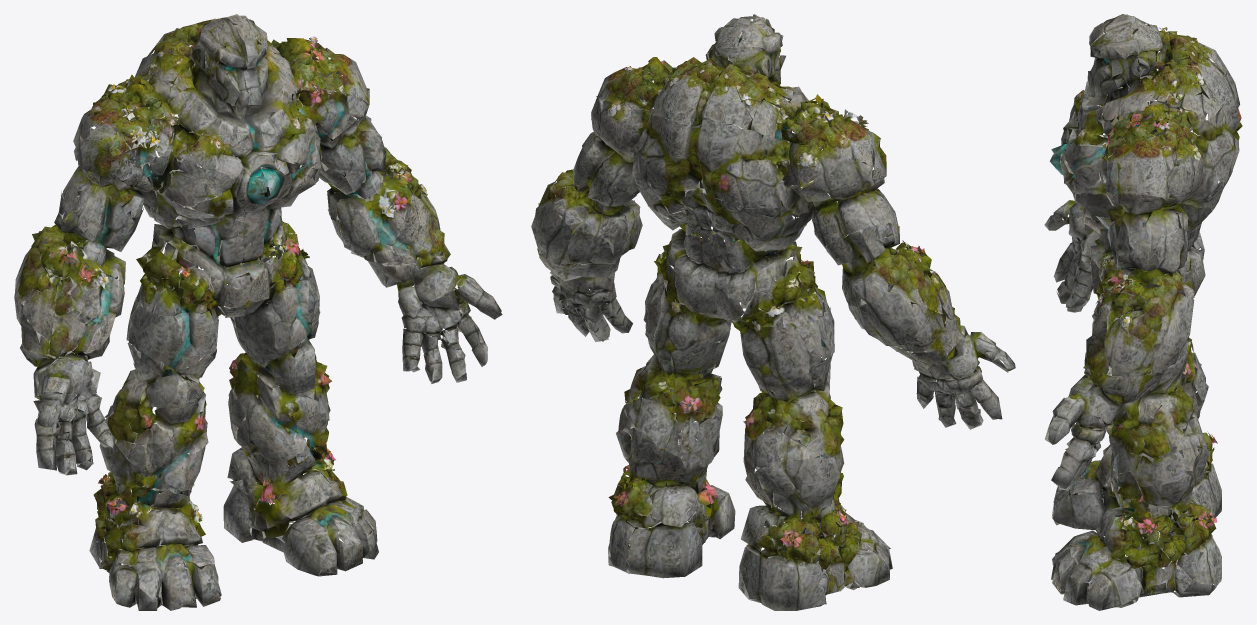
The model's file is golem_piedra.glb.
3 renders of one model, left to right at view 1: azimuth 30°, elevation 25°; view 2: azimuth 150°, elevation 25°; view 3: azimuth 270°, elevation 25°, orthographic. The views are drawn at different scales.
Parts seen in each view (by area): view 1: stone-golem; view 2: stone-golem; view 3: stone-golem.
Part boxes in pixels (bbox=[...]): stone-golem: bbox=[14, 14, 502, 610]; stone-golem: bbox=[531, 14, 1015, 610]; stone-golem: bbox=[1044, 14, 1242, 610].
Bounding box in the file's own units: 2.49 × 2.81 × 0.9448.
Materials: 1 (1 with a texture image).
